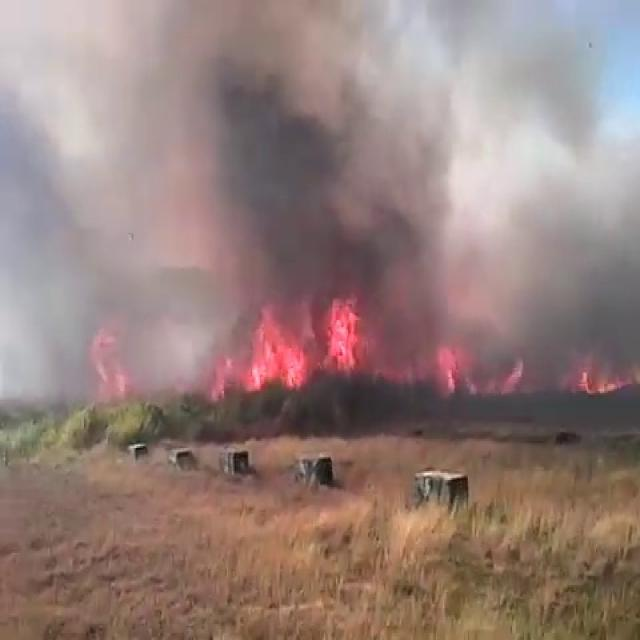Fire: (236, 287, 365, 401), (572, 350, 640, 404)
Smoke: (1, 0, 640, 391)
